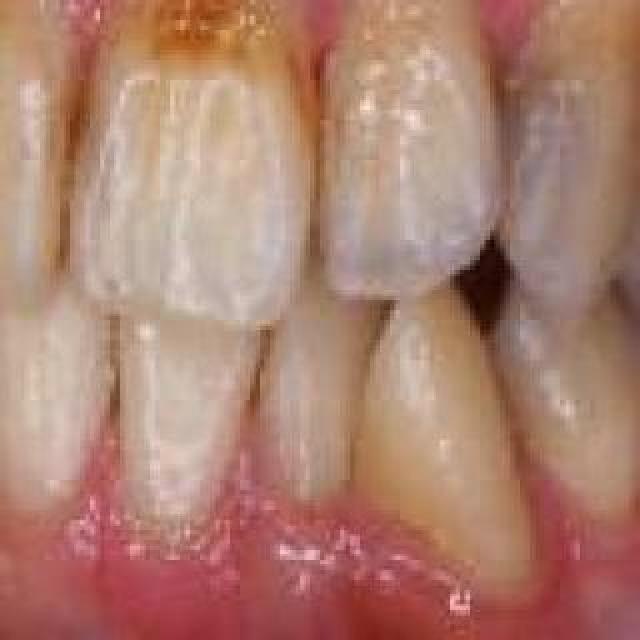cavities: (471, 42, 635, 248)
maligned: (311, 274, 561, 592), (480, 258, 640, 518)
